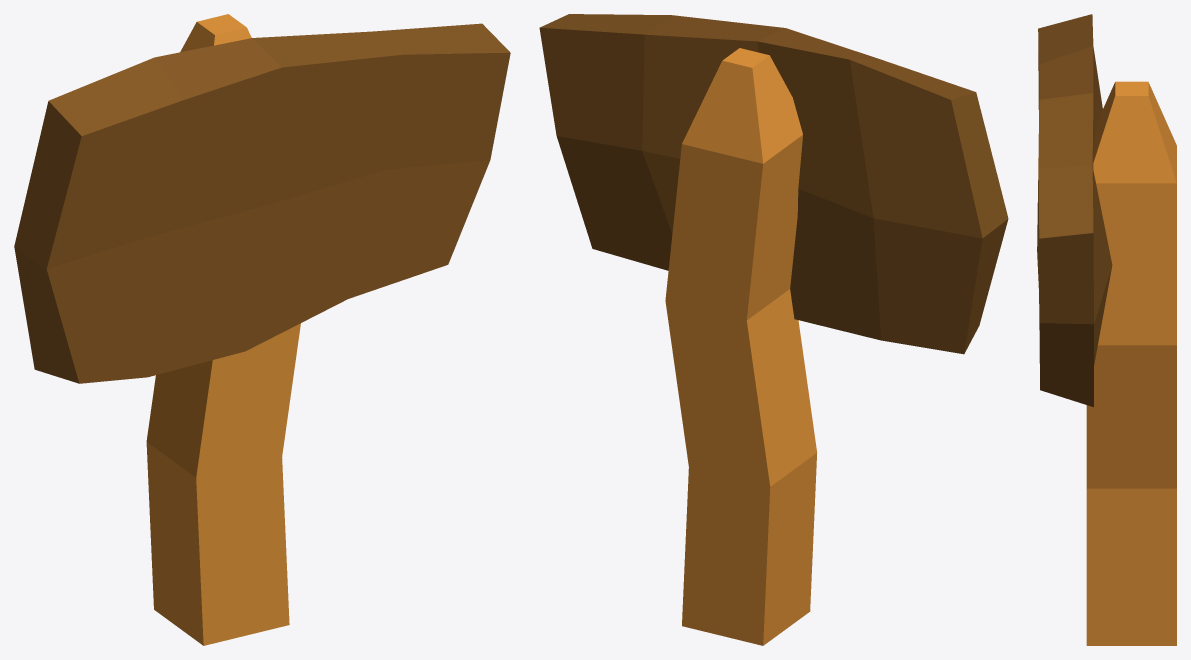
File: Sign1.fbx
The picture shows the model from 3 angles, left to right: view 1: azimuth 30°, elevation 25°; view 2: azimuth 150°, elevation 25°; view 3: azimuth 270°, elevation 25°; orthographic projection. The views are drawn at different scales.
Parts seen in each view (by area): view 1: Cube.009; view 2: Cube.009; view 3: Cube.009.
Boxes of the visible parts, bbox=[...] form: Cube.009: bbox=[14, 14, 510, 645]; Cube.009: bbox=[539, 14, 1008, 645]; Cube.009: bbox=[1037, 14, 1176, 645].
Size of the model in its own units: 231 by 281 by 65.72.
